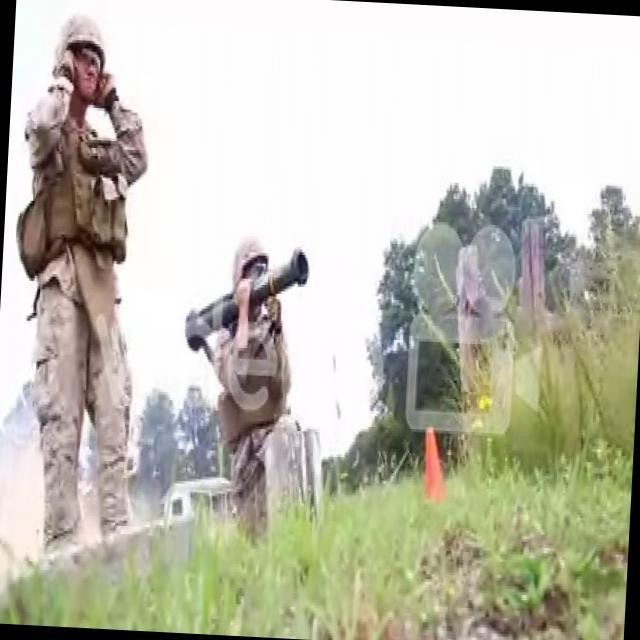rocket: (185, 238, 312, 359)
